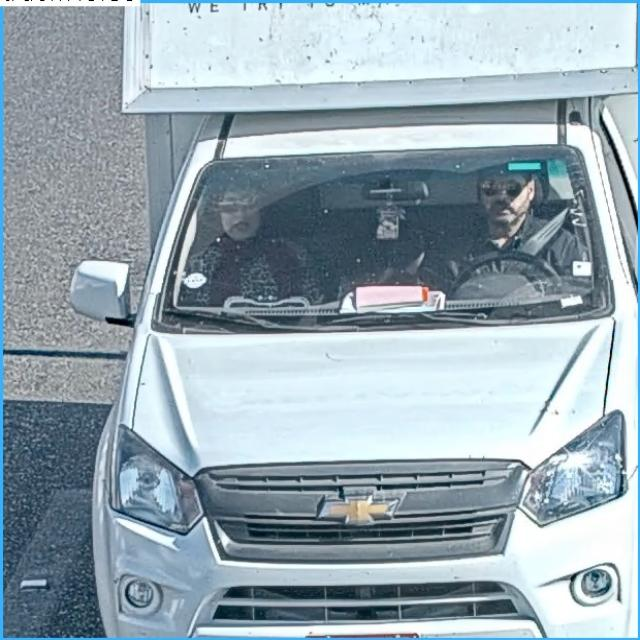windshield: (166, 154, 609, 320)
